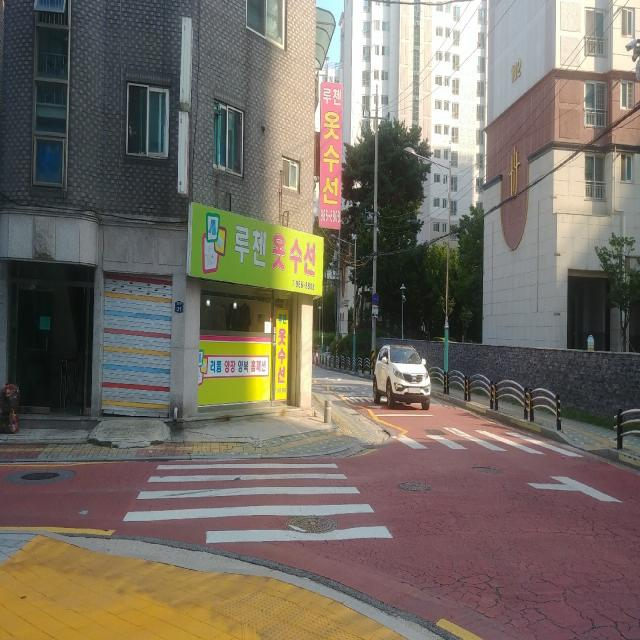횡단보도: (122, 462, 394, 545), (372, 430, 570, 456)
